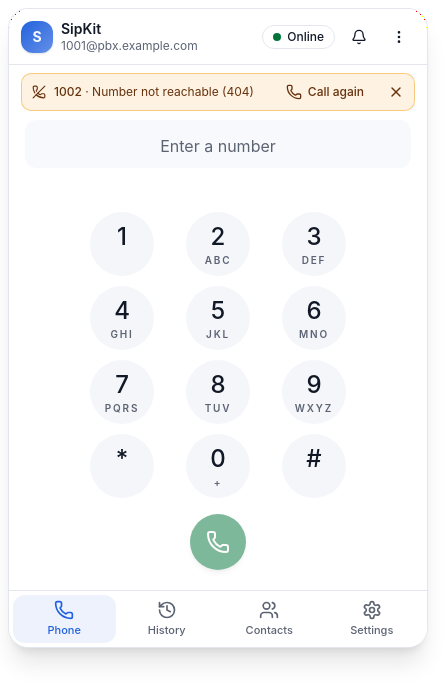
Scenario: call failure messages › explains an unreachable number (404), dismisses and calls again
Earlier steps of the test are not shown.
Expected: the message "1002 · Number not reachable (404) Call again" is shown, [21,73,415,111]
Click the button named "Dismiss": (396, 92) [382,78,410,106]
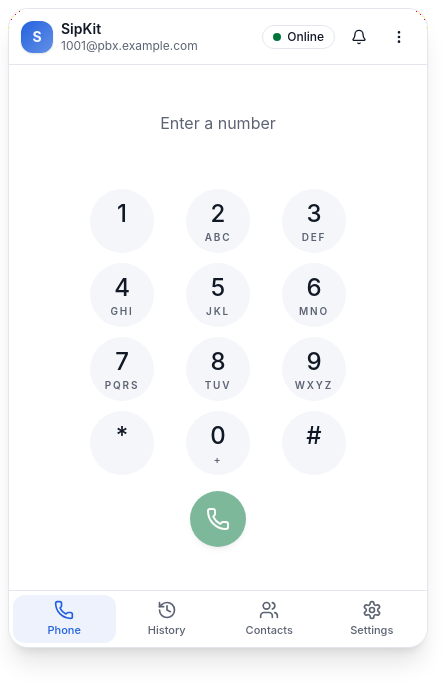
Now the message with test id "call-failure" is gone
